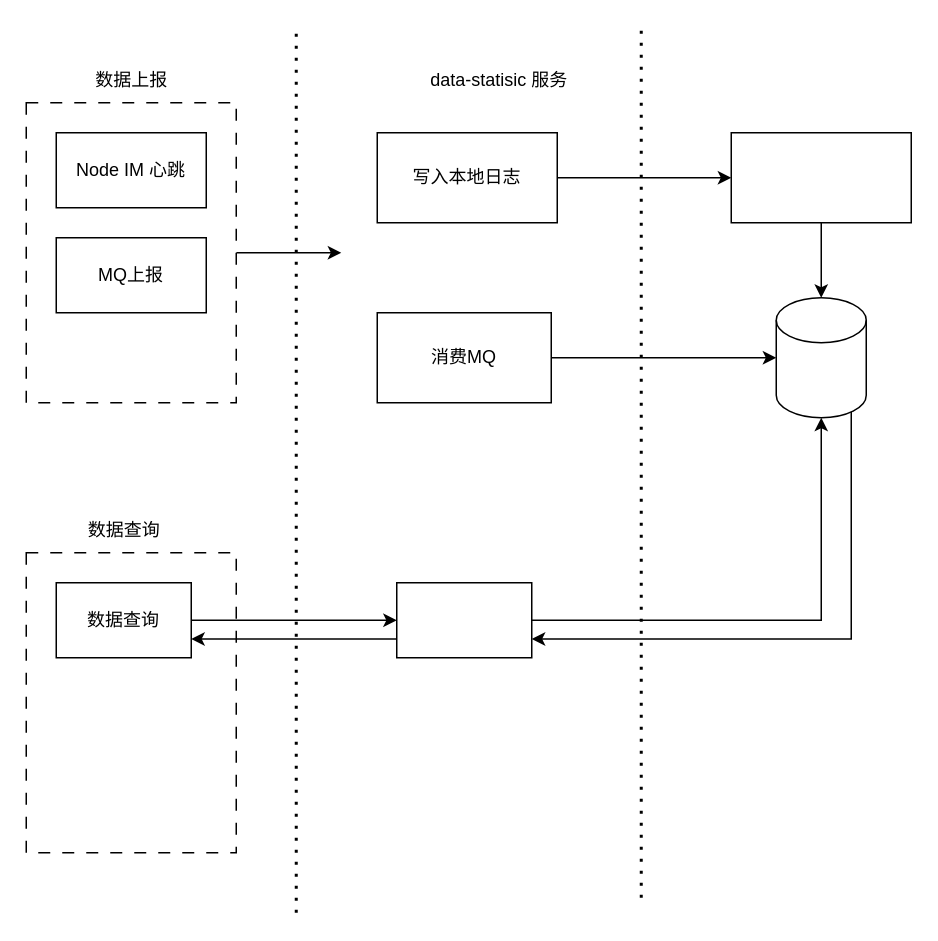
Image size: 938x941. Some labels were removed from this diagram. Here are the shapes that lost their labels. From the top down, the centre of each, then its label:
[820,177]: 数据采集 filebeat
[820,357]: es
[463,619]: 聚合查询
